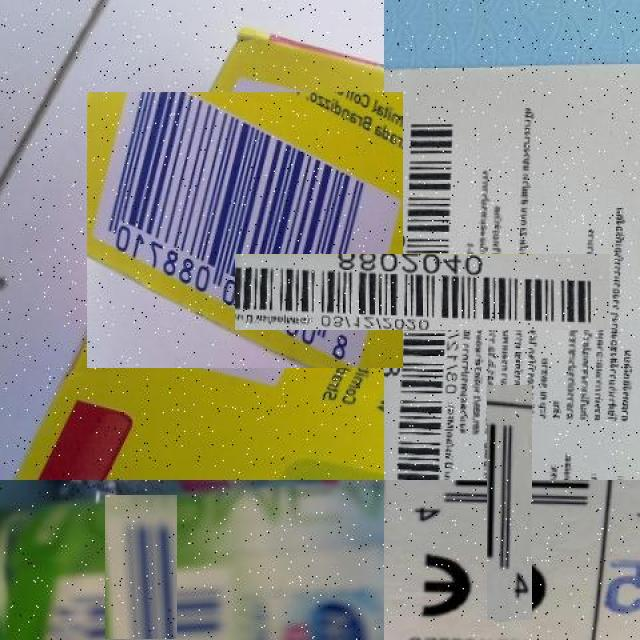Barcode: (97, 82, 394, 378), (309, 179, 535, 405), (440, 432, 580, 573), (68, 531, 214, 640)
